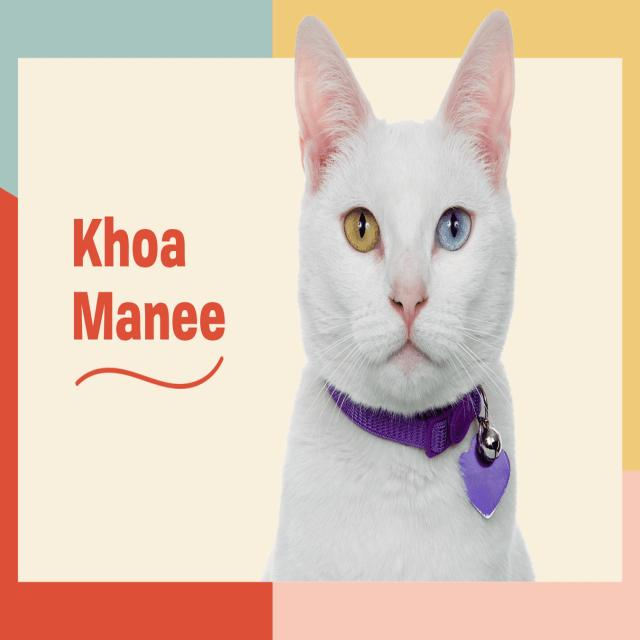Khao Manee: (258, 5, 537, 583)
